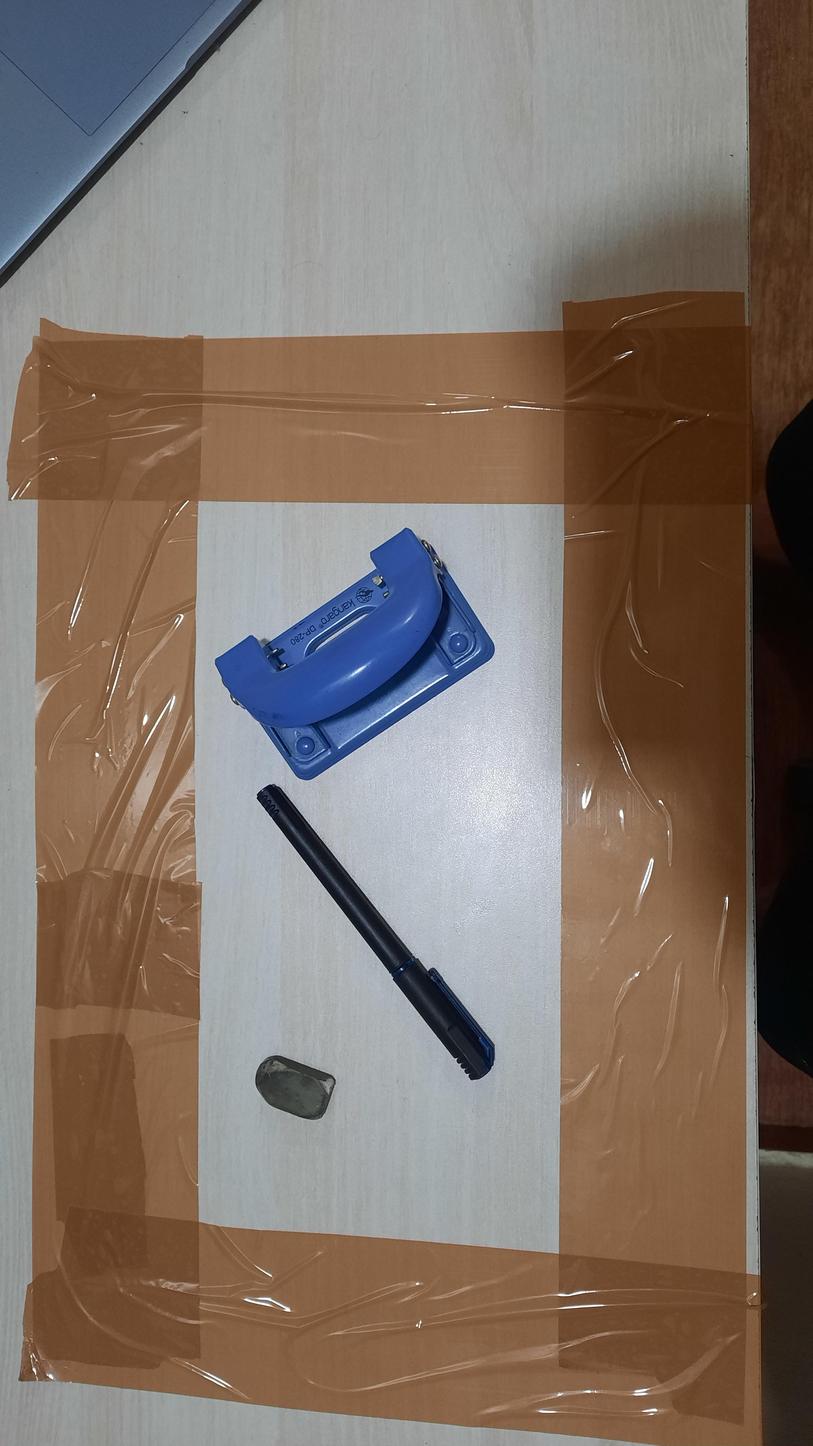Eraser: (255, 1055, 337, 1121)
Pen: (255, 783, 495, 1081)
Punch: (215, 527, 496, 782)
